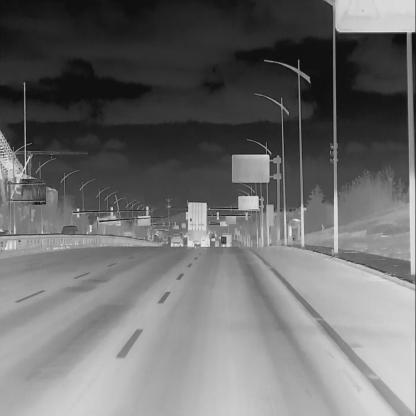car: (60, 224, 78, 241), (170, 231, 184, 248), (214, 240, 219, 247), (211, 236, 215, 242)
truck: (186, 200, 210, 248), (220, 231, 232, 248)
